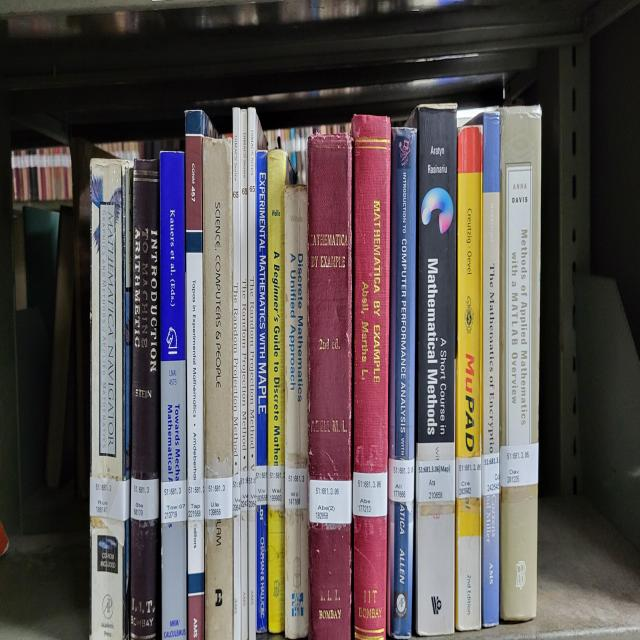Book: (408, 106, 456, 636), (308, 133, 352, 639), (500, 106, 541, 622), (351, 116, 391, 639), (90, 160, 132, 639), (185, 111, 216, 639), (470, 111, 500, 628), (202, 138, 232, 639), (130, 160, 160, 639), (388, 127, 416, 639), (160, 152, 188, 639), (455, 127, 482, 630), (241, 108, 266, 639), (284, 184, 309, 639), (268, 149, 288, 636), (121, 160, 134, 639), (256, 152, 268, 633), (240, 108, 248, 639), (232, 108, 240, 544)
Label: (309, 479, 351, 525), (90, 476, 130, 522), (416, 460, 455, 503), (500, 444, 539, 487), (352, 471, 388, 517), (204, 476, 232, 519), (389, 457, 415, 503), (131, 479, 159, 519), (161, 479, 186, 522), (456, 457, 481, 498), (285, 465, 308, 509), (482, 452, 500, 495), (268, 465, 285, 509), (232, 471, 248, 514), (188, 479, 204, 519), (255, 465, 268, 506), (248, 468, 256, 509)
